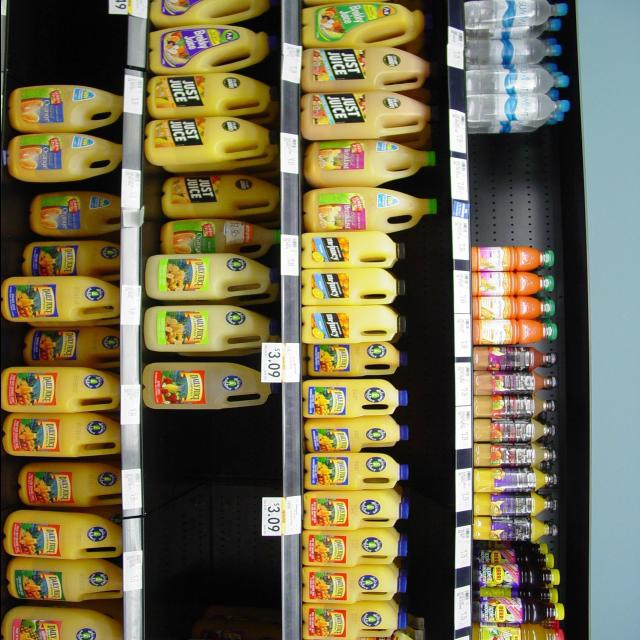empty_space: (141, 419, 258, 640), (463, 139, 565, 245), (10, 12, 118, 86), (0, 185, 25, 268), (0, 324, 20, 368)
